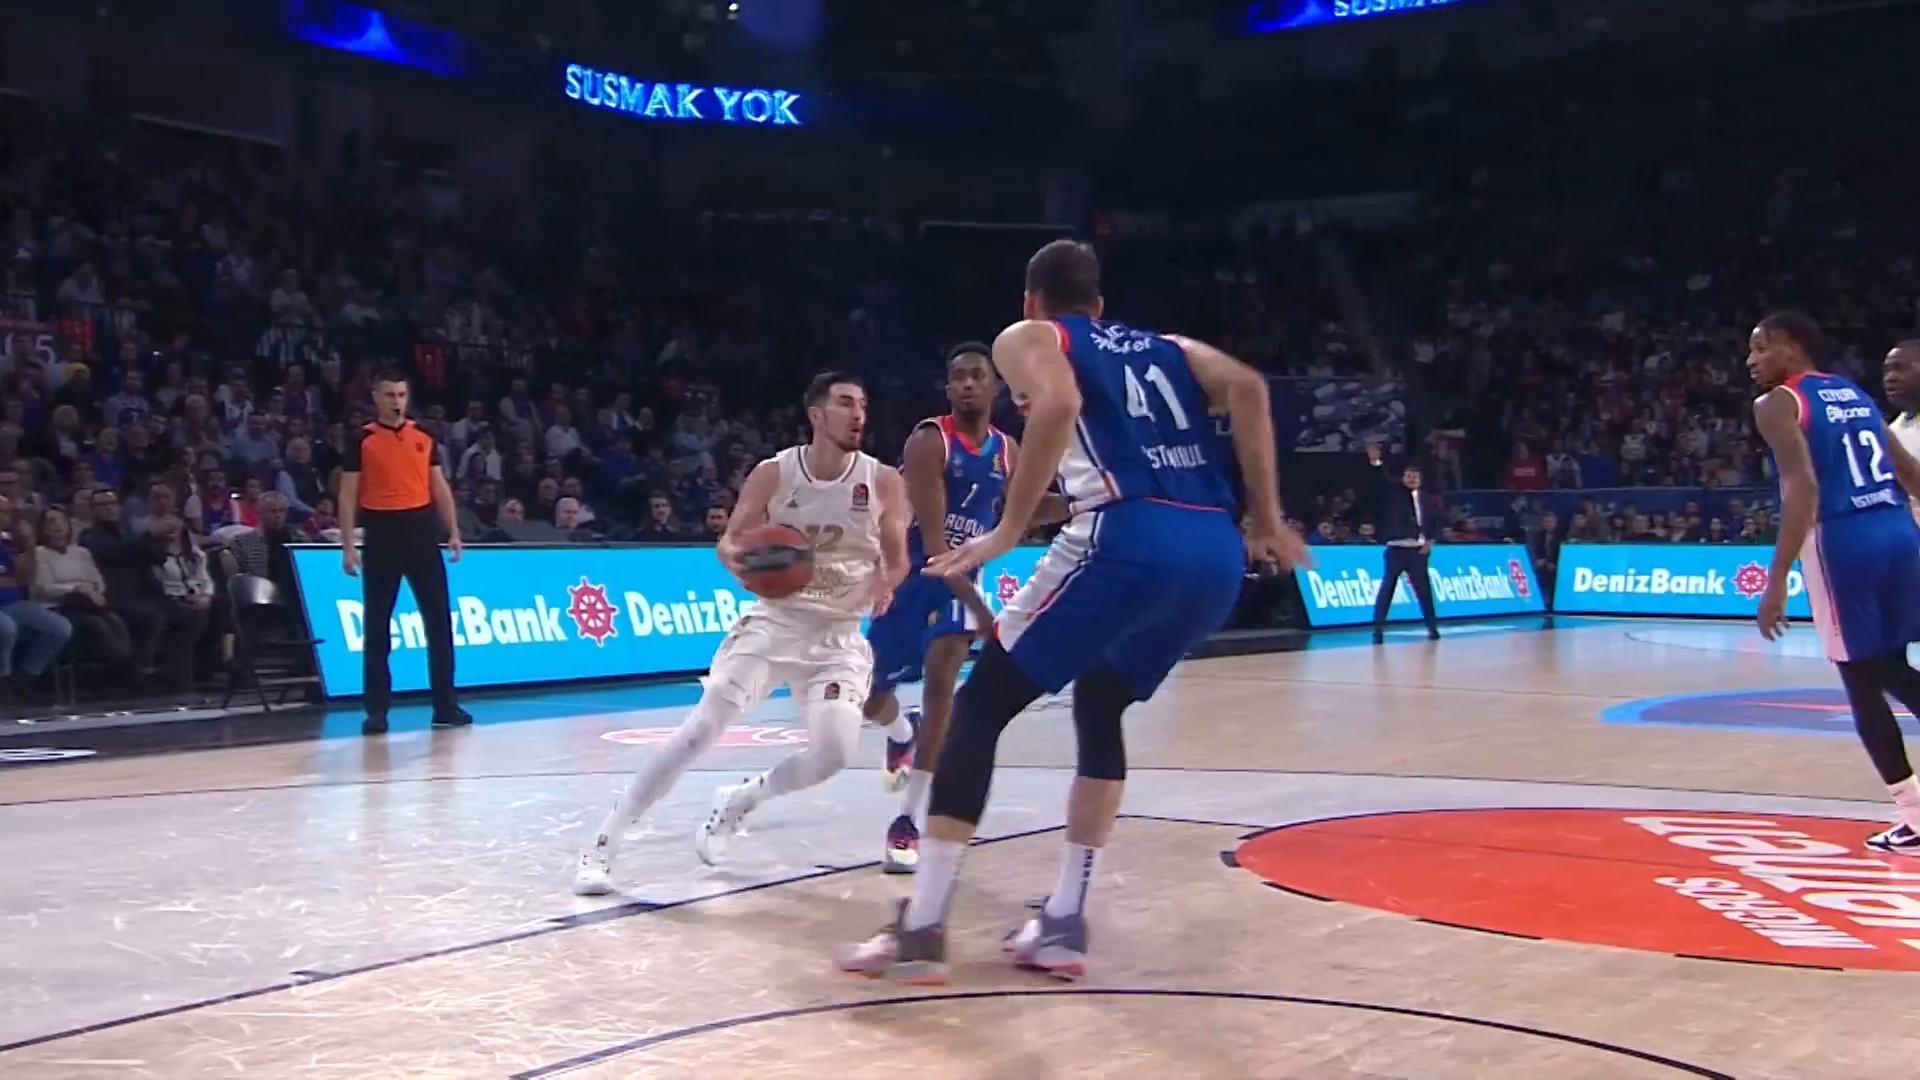ball: (735, 522, 818, 603)
